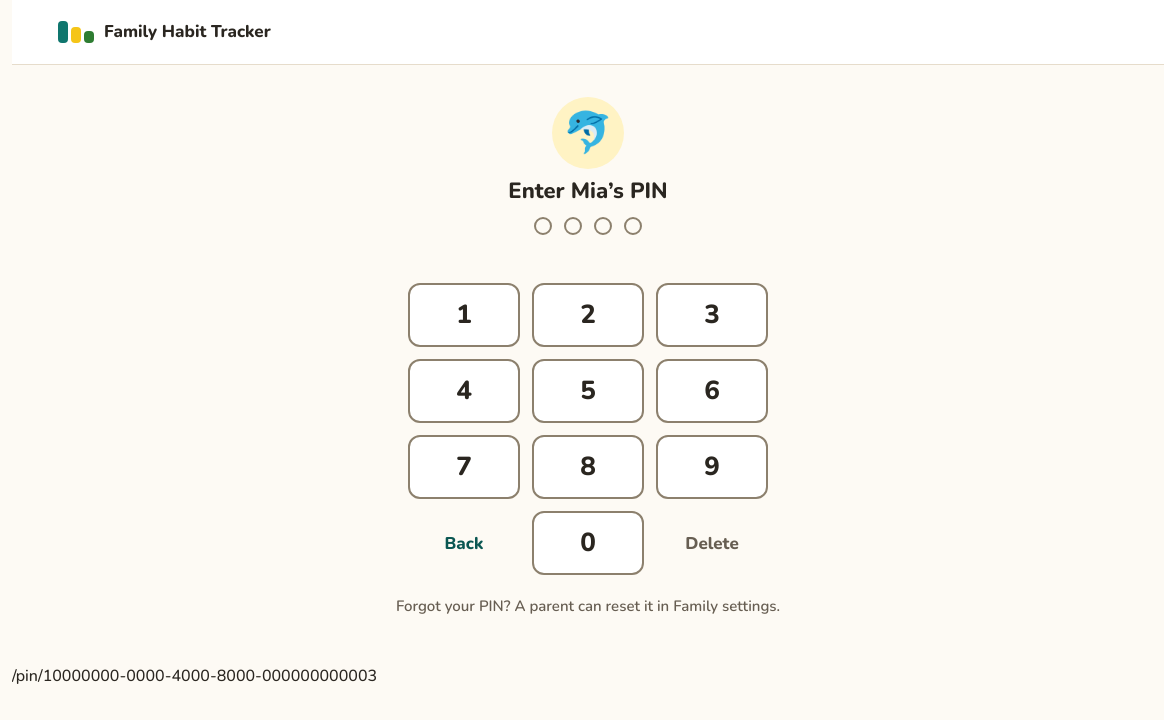
Test: REQ-003 PIN pad › a correct PIN typed on the keypad opens My day as that member
The image size is (1164, 720).
expect the heading "Enter Mia’s PIN" is shown: met, box x1=508 y1=177 x2=668 y2=205
expect the button "0" is shown: met, box x1=532 y1=511 x2=644 y2=575
Step 1. Click the button "1" → x=464, y=315, box x1=408 y1=283 x2=520 y2=347
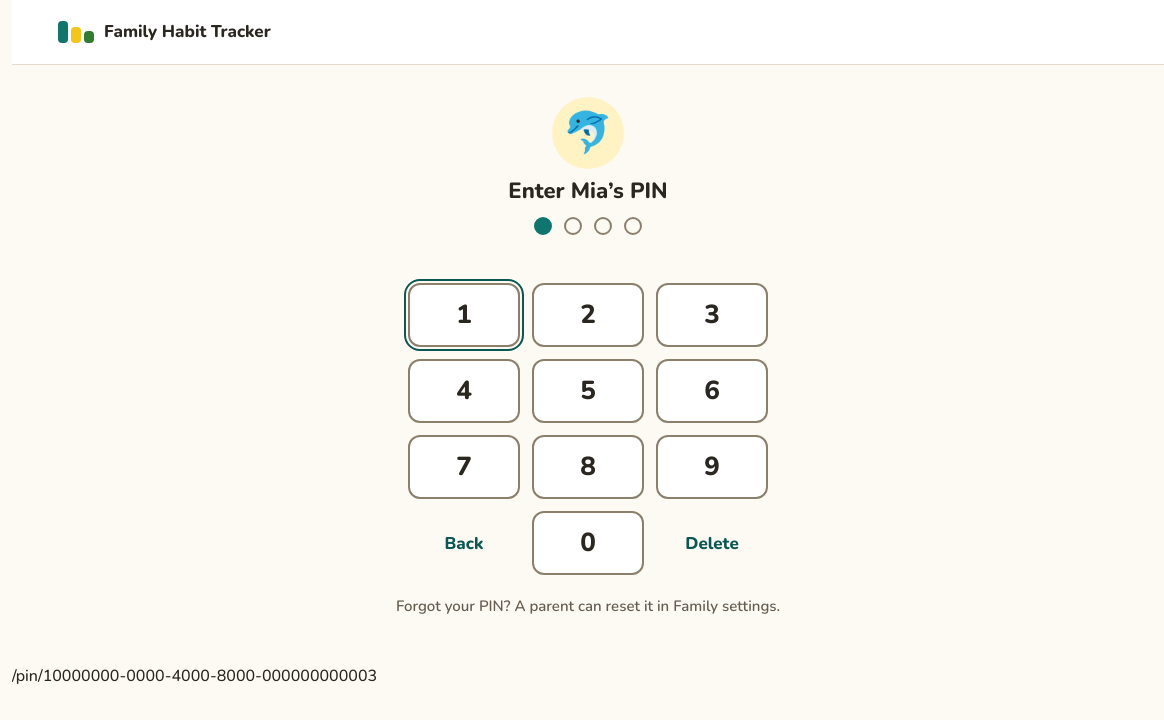
Step 2. Click the button "2" → x=588, y=315, box x1=532 y1=283 x2=644 y2=347
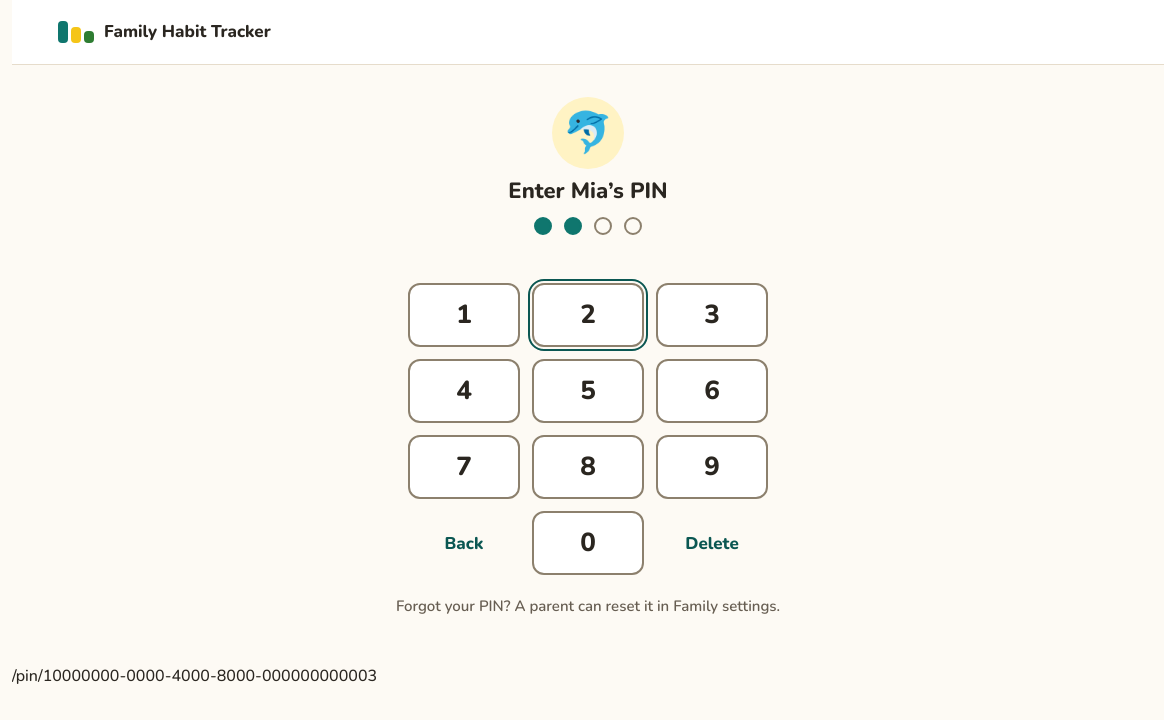
Step 3. Click the button "3" → x=712, y=315, box x1=656 y1=283 x2=768 y2=347
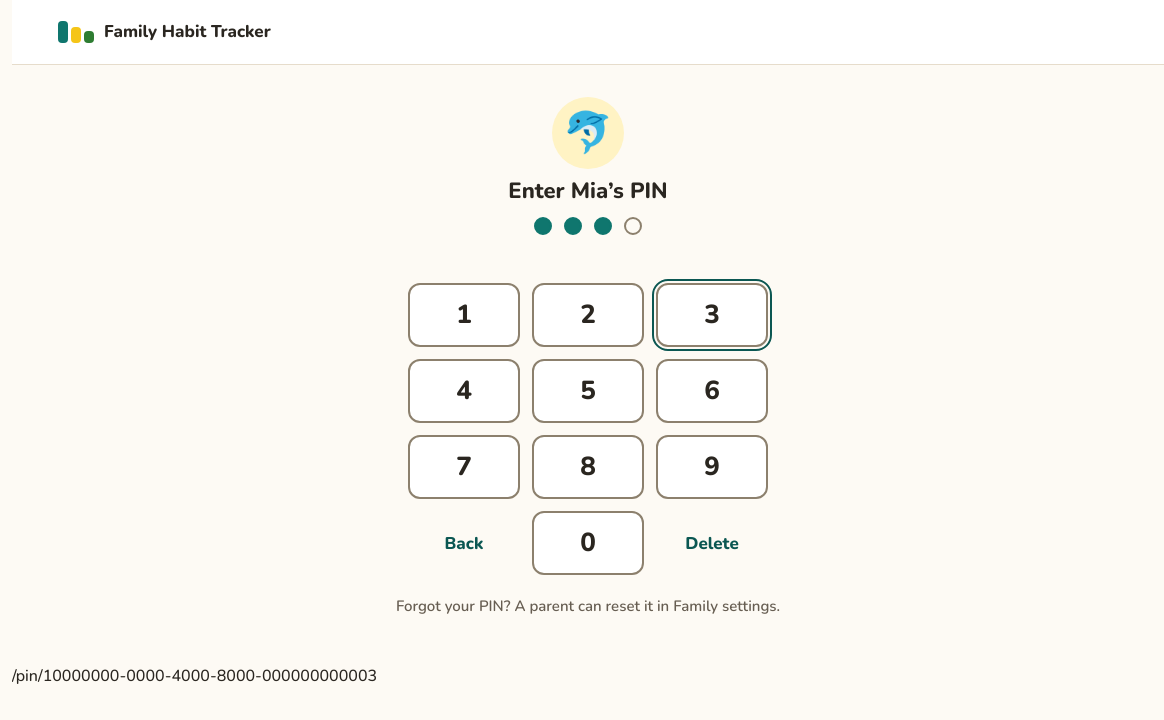
Step 4. Click the button "4" → x=464, y=391, box x1=408 y1=359 x2=520 y2=423
(page scrolled)
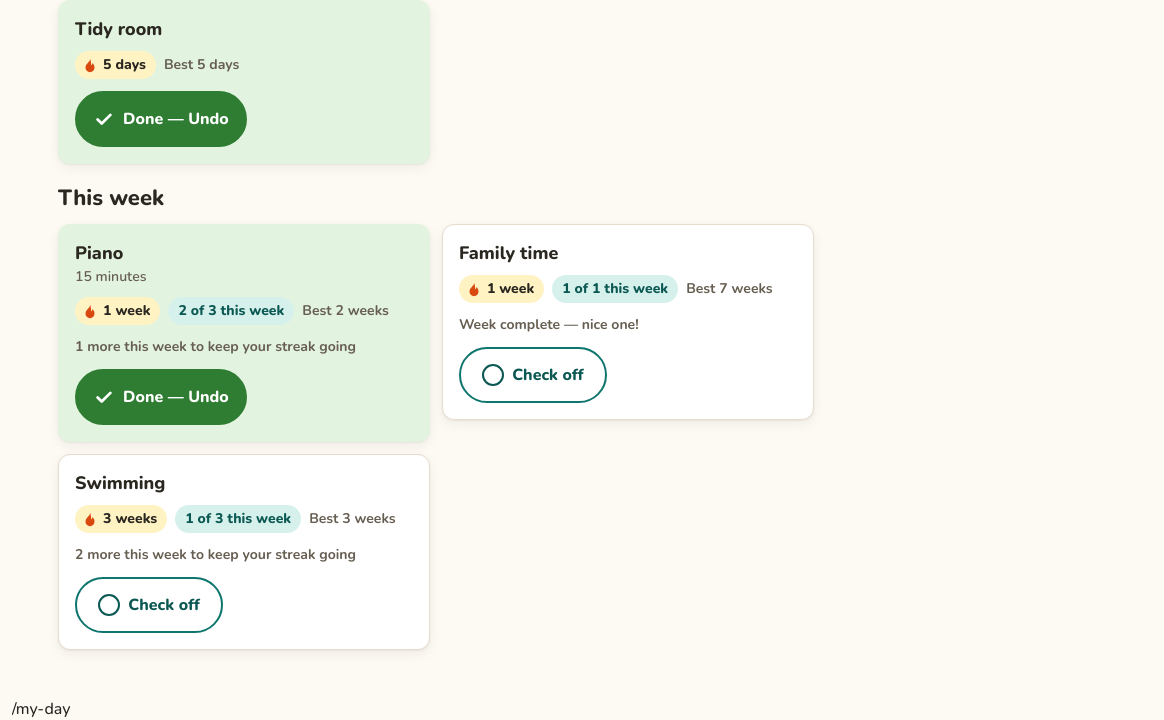
expect the text named "Current path" reads "/my-day": met, box x1=12 y1=698 x2=70 y2=719
